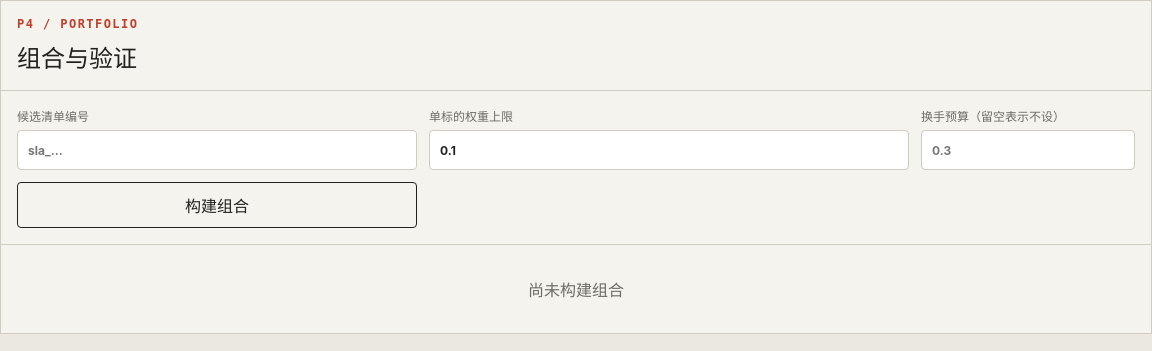
Test: PortfolioPage › still says something when what was thrown is not an Error
Type "sla_typed" into the field labelled "候选清单编号".
click(217, 150); type("sla_typed")  # box x1=17 y1=130 x2=417 y2=170
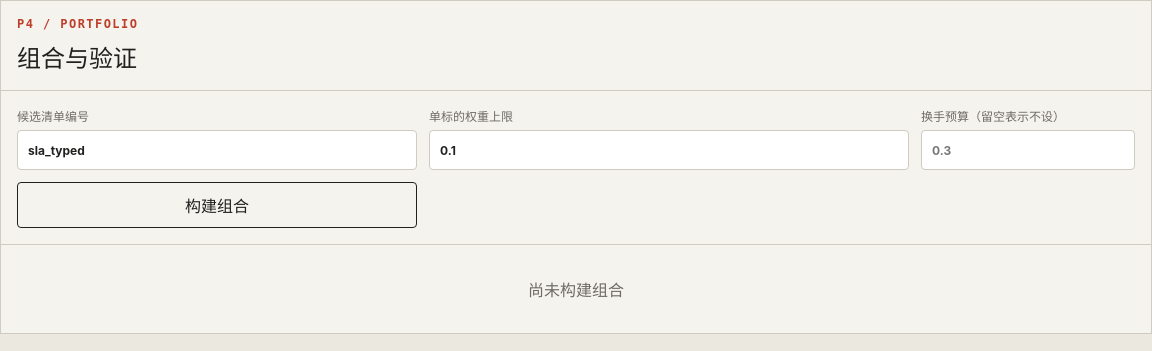
Click the button "构建组合".
click(217, 205)  # box x1=17 y1=182 x2=417 y2=228
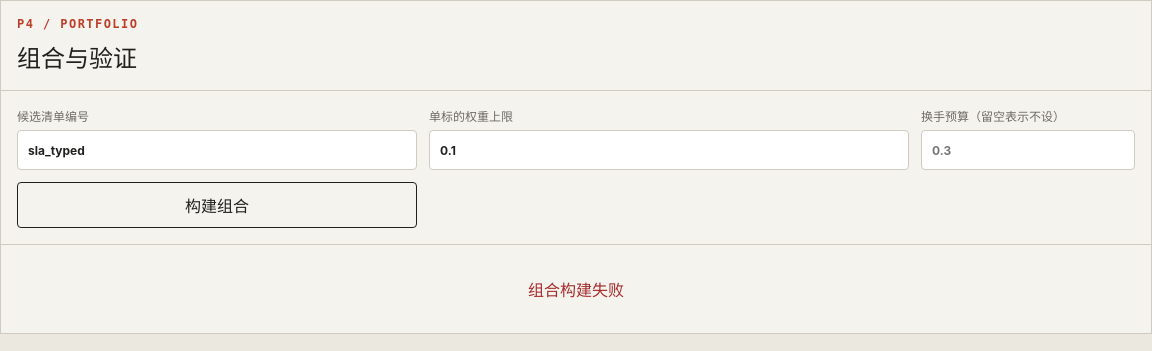
Expected: the message reads "组合构建失败", x1=528 y1=280 x2=624 y2=300
